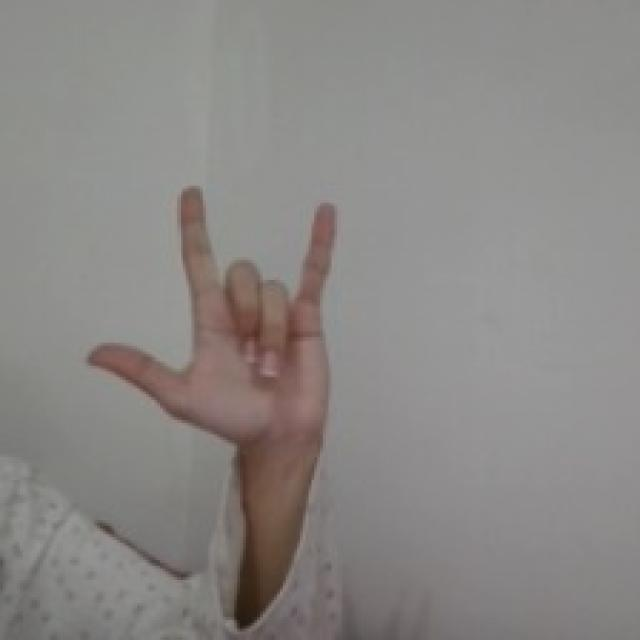love: (81, 182, 343, 447)
